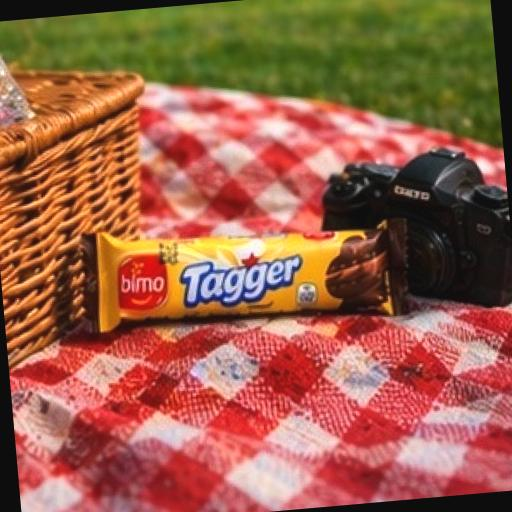tagger: (48, 116, 452, 406)
